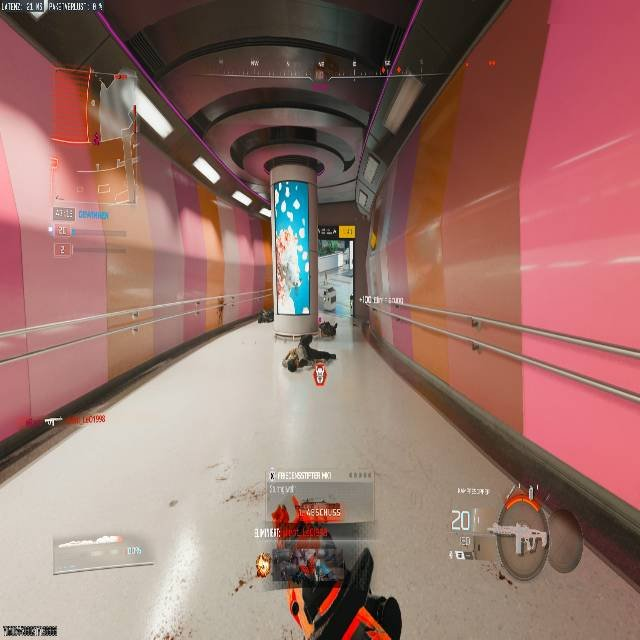player: (246, 501, 404, 639)
